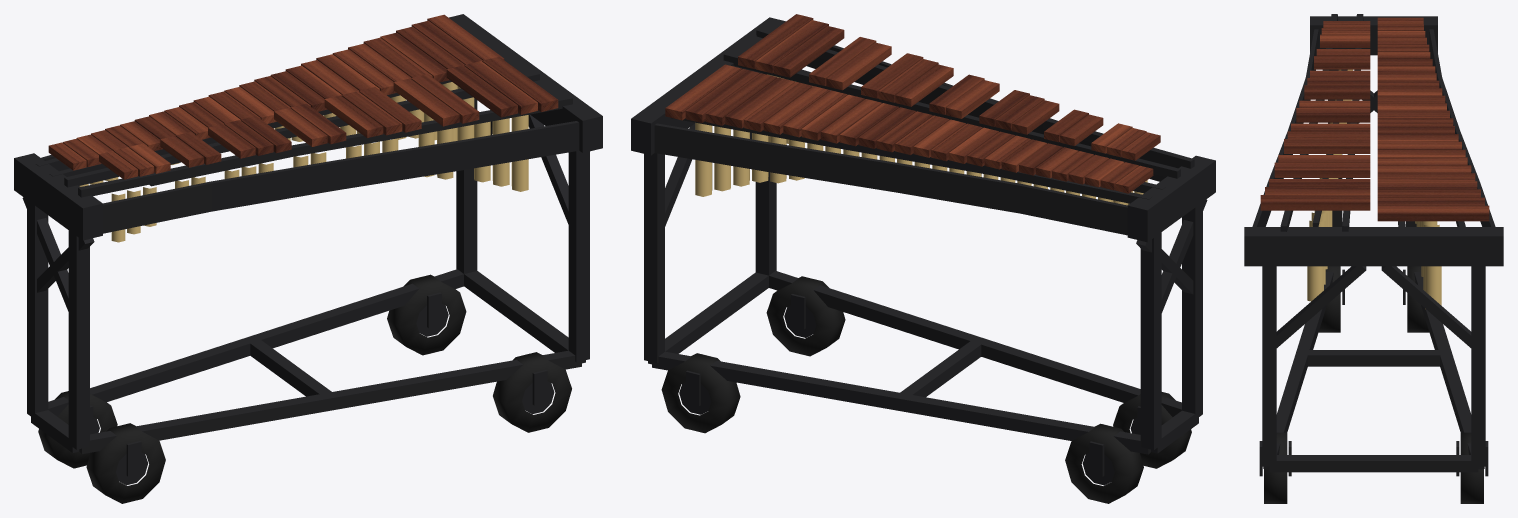
Rendered from xylophone-3.5-low.glb.
3 renders of one model, left to right at view 1: azimuth 30°, elevation 25°; view 2: azimuth 150°, elevation 25°; view 3: azimuth 270°, elevation 25°, orthographic. The views are drawn at different scales.
Visible parts, largest first — view 1: frame, bars-rosewood, artwork, rubber, resonators-gold; view 2: frame, bars-rosewood, rubber, resonators-gold; view 3: frame, bars-rosewood, rubber, resonators-gold.
Boxes of the visible parts, x1,y1,x2,y2 form: frame: (14, 14, 602, 485); bars-rosewood: (48, 14, 558, 179); artwork: (103, 122, 579, 233); rubber: (38, 274, 571, 503); resonators-gold: (79, 82, 528, 242); frame: (631, 17, 1215, 485); bars-rosewood: (665, 14, 1160, 193); rubber: (661, 276, 1191, 503); resonators-gold: (695, 74, 1147, 205); frame: (1244, 14, 1503, 476); bars-rosewood: (1260, 17, 1489, 221); rubber: (1264, 266, 1483, 503); resonators-gold: (1307, 69, 1441, 309).
Size of the model in its own units: 1.45 by 0.9351 by 0.7214.
Materials: 5 (1 with a texture image).
